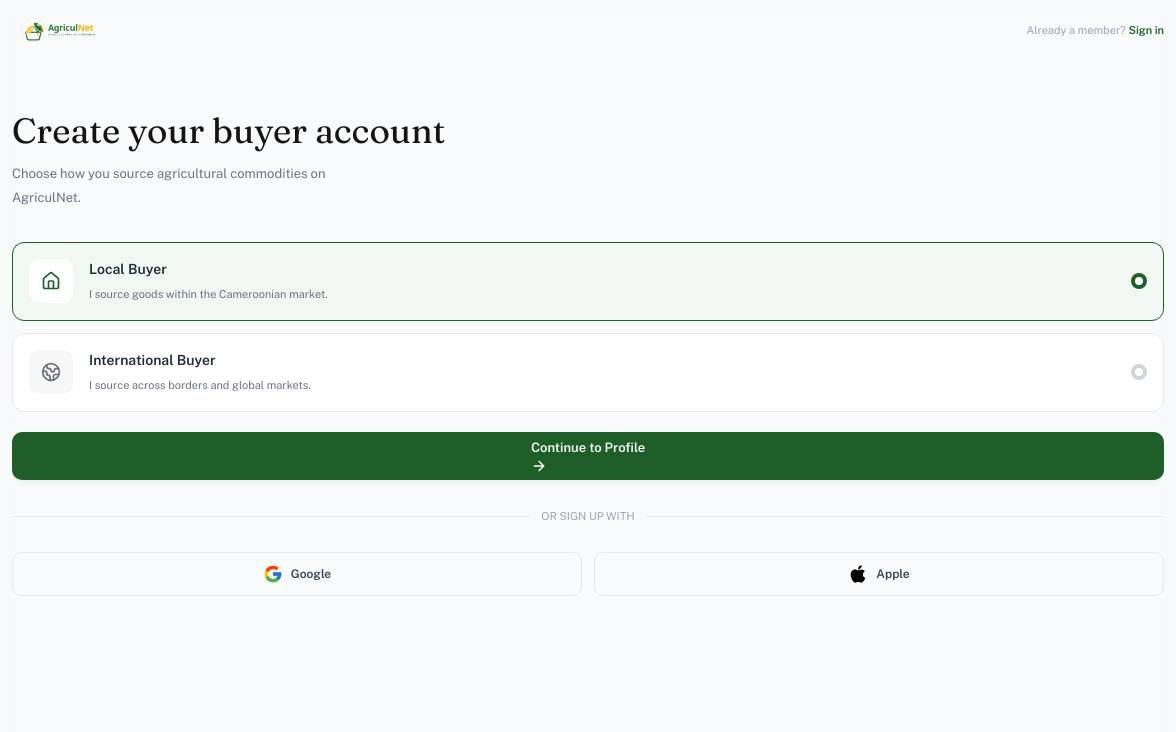
Test: buyer registration stages › uses an email-based international profile with an explicit country field
Click the radio button labelled "International Buyer".
click(51, 372)  # box x1=12 y1=333 x2=1164 y2=412
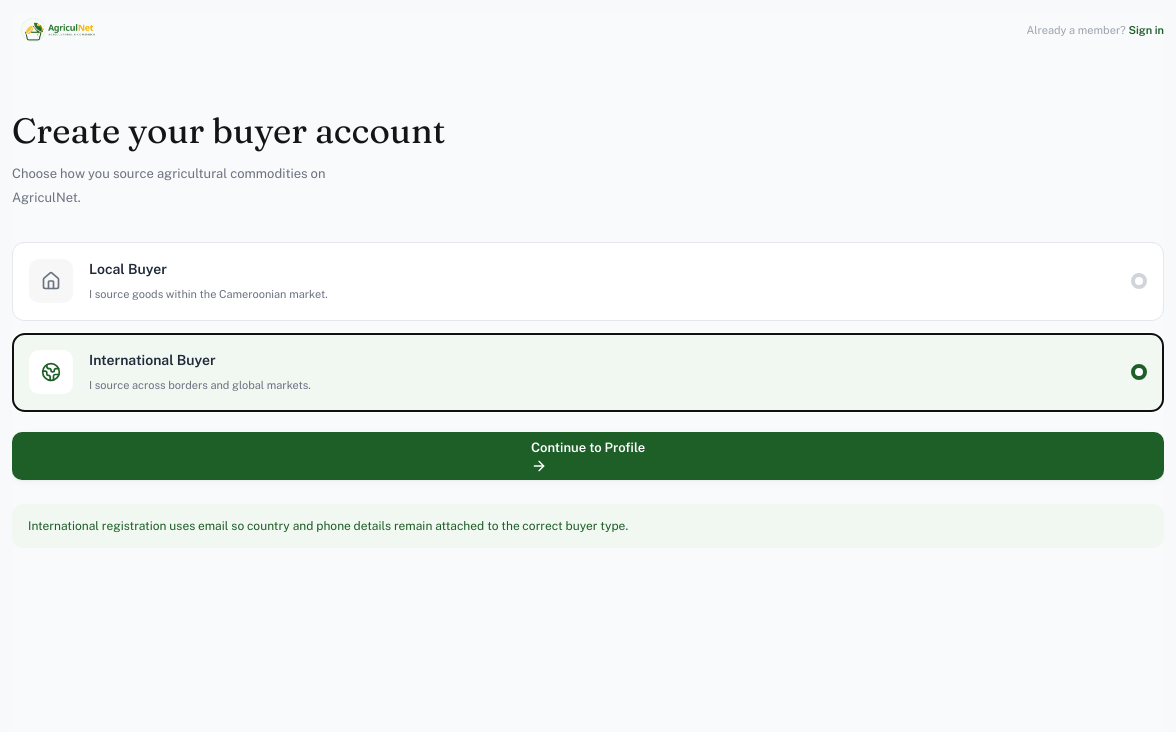
Check: the button "Google" is gone
Check: the text "International registration uses email" is shown, box x1=28 y1=519 x2=628 y2=533
Click the button "Continue to Profile".
click(588, 456)  # box x1=12 y1=432 x2=1164 y2=480
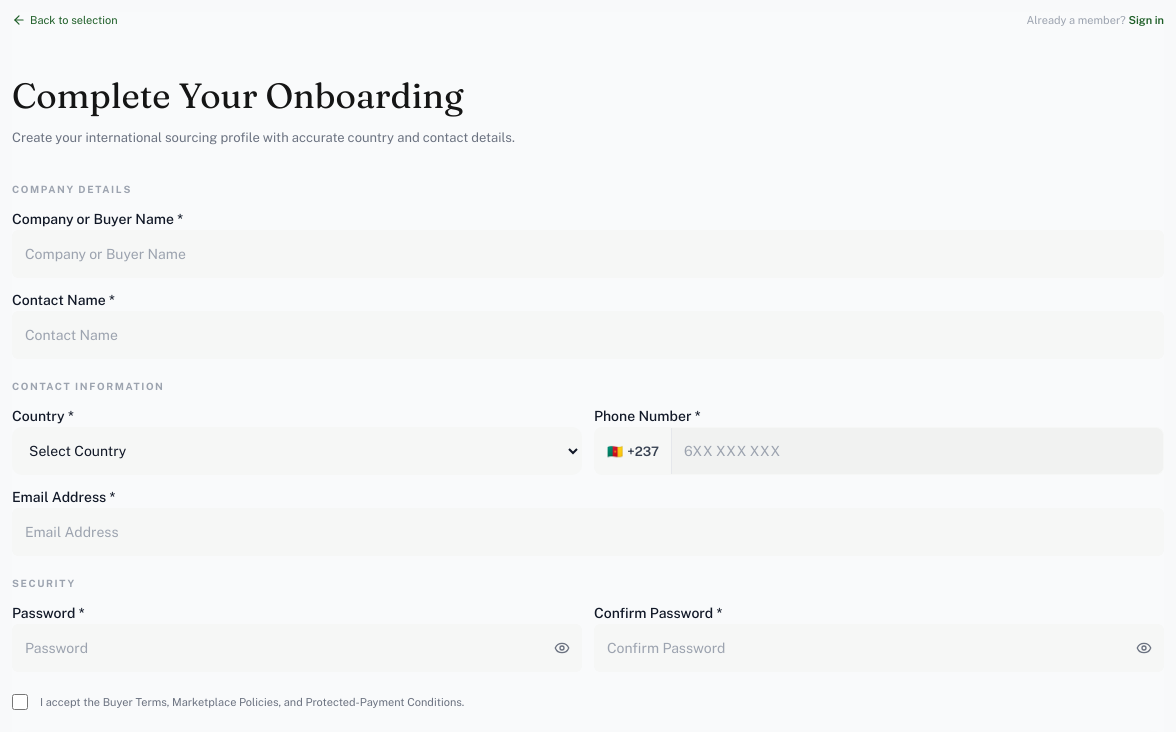
Check: the dropdown is shown, box x1=12 y1=427 x2=582 y2=475
Check: the text "accurate country and contact details" is shown, box x1=12 y1=130 x2=515 y2=145
